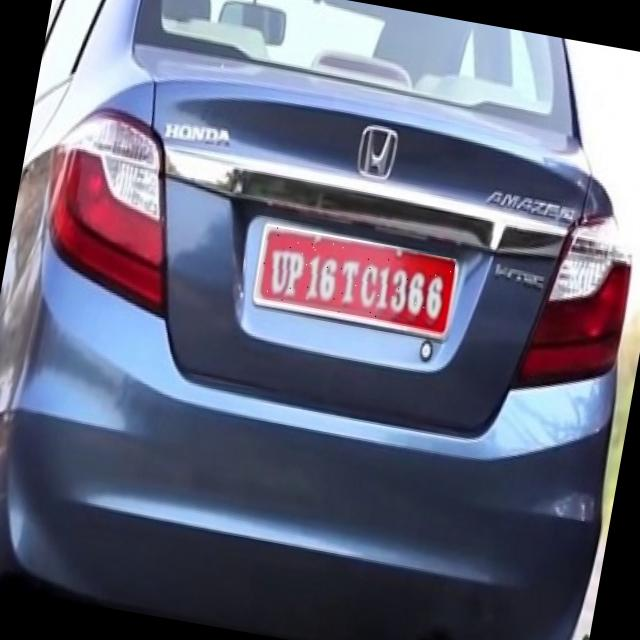Plate: (255, 227, 457, 332)
